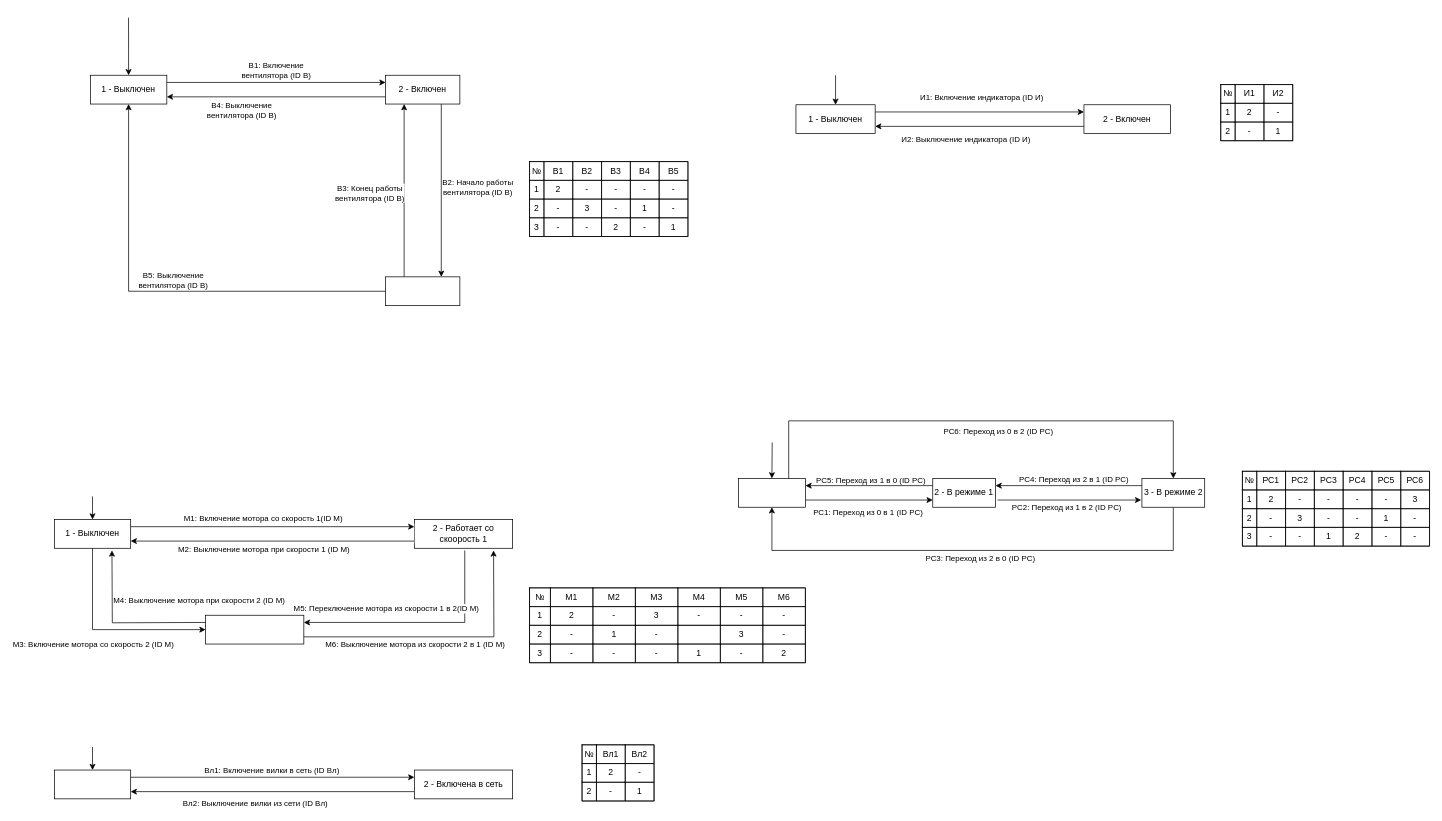
Some shapes in this 1442 by 821 pixel diagram are drawn without their labels. The shapes that lost their labels are listed below. From the top down, each one's centre as x and y in pixels, then its label:
(422,291): 3 - Работает
(771,492): 1 - В режиме 0
(254,629): 3 - Работает со скоростью 2
(92,784): 1 - Не включена в сеть
